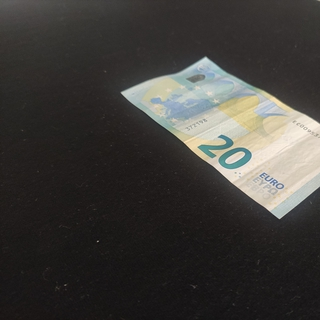20EUROBack: (120, 56, 320, 219)
